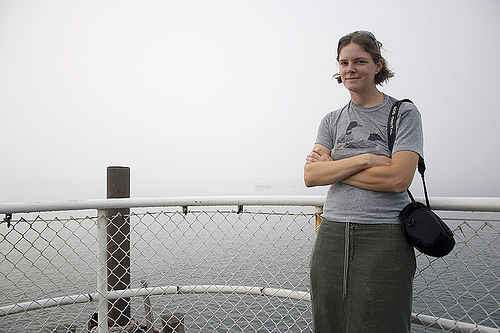without_mask: (334, 42, 382, 94)
